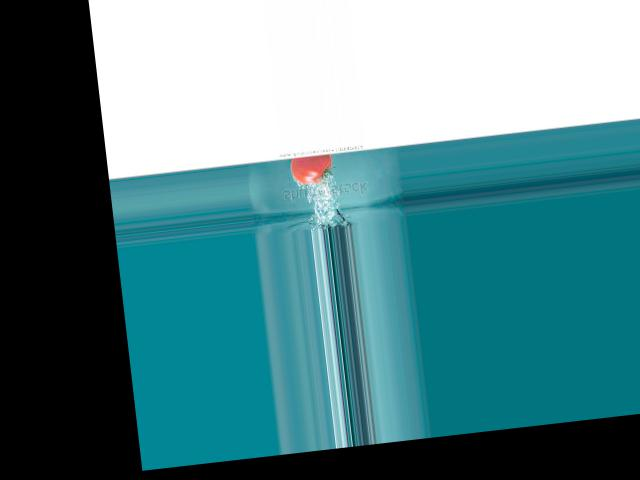tomato: (290, 153, 335, 185)
